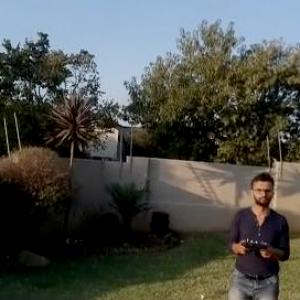follow: (223, 168, 294, 299)
